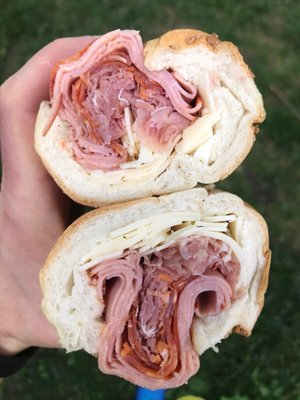salad: (38, 187, 272, 396)
